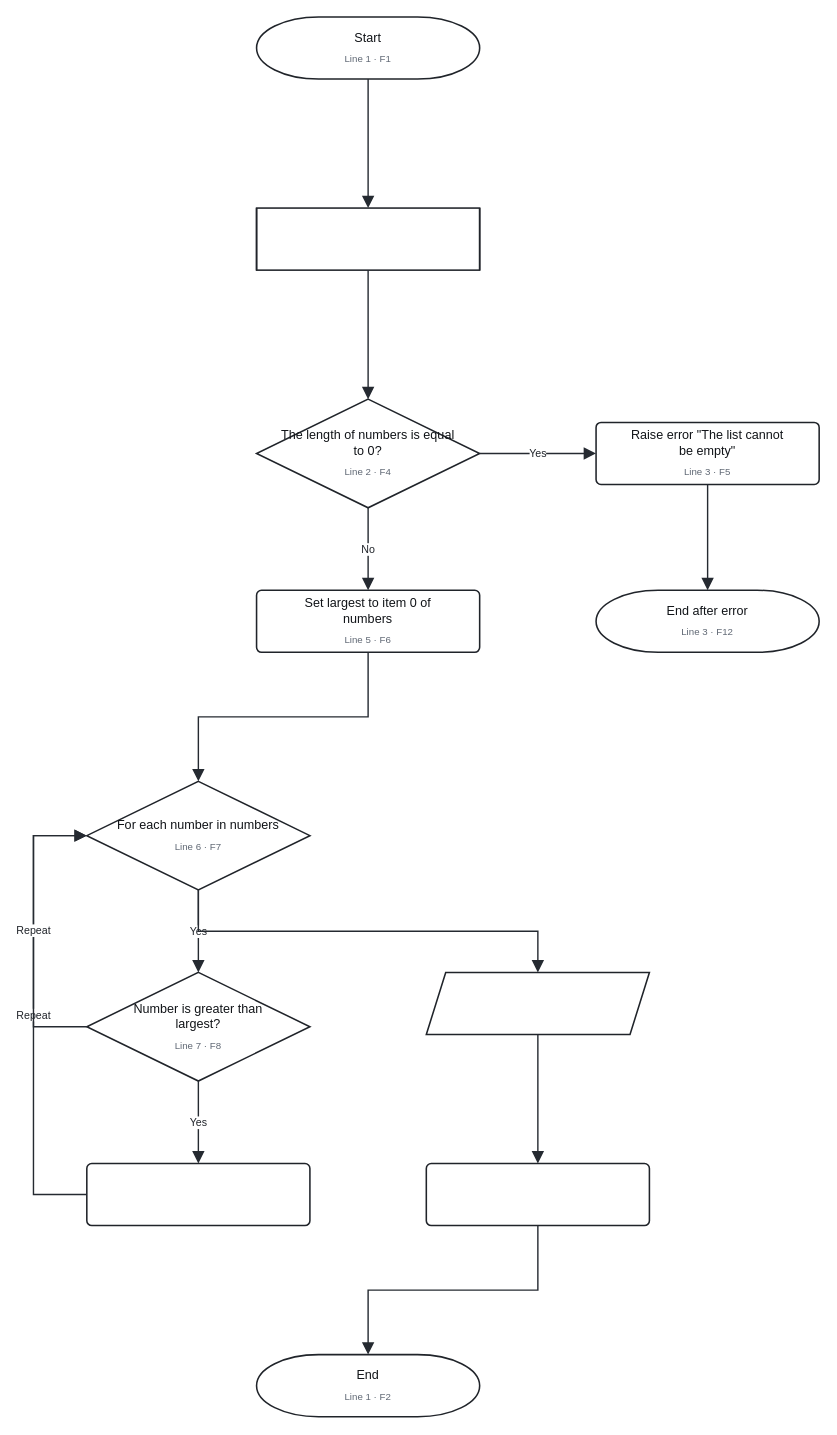
The diagram is 837 pixels wide and 1435 high, and some of its shapes have lost their labels. Here are the shapes that lost their labels. From the top down, the centre of each, then its label:
(367,238): Run function find_largest with numbers Line 1 · F3
(537,1003): Display "The largest value is {largest}" Line 11 · F10
(198,1194): Set largest to number Line 8 · F9
(537,1194): Return largest Line 12 · F11
